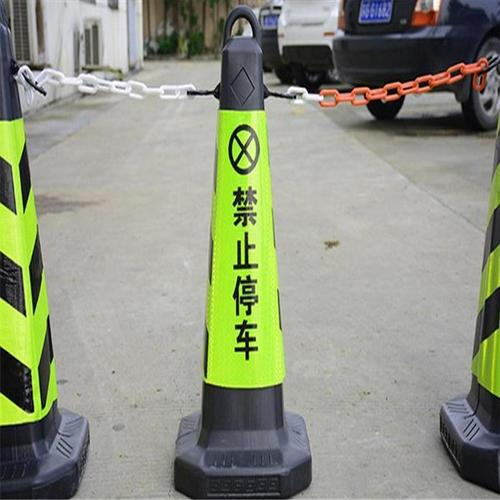cone_barrel: (168, 38, 312, 495), (434, 123, 498, 480)
